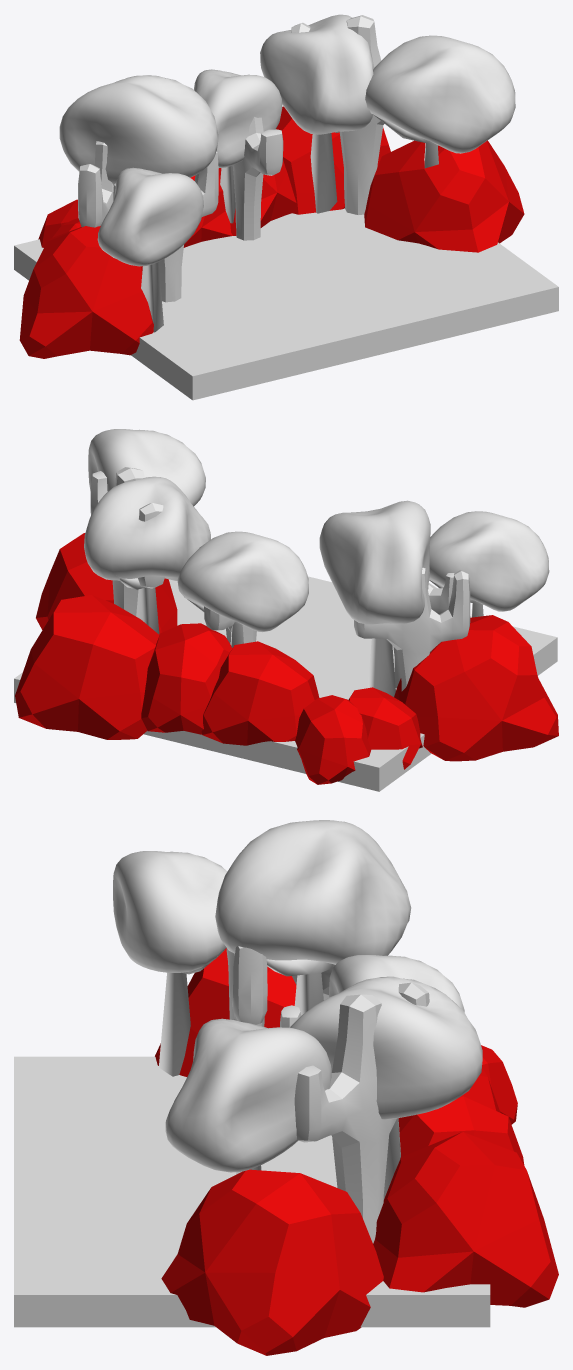
The model's file is Finishler.fbx.
3 views of the same model, one above another, from view 1: azimuth 30°, elevation 25°; view 2: azimuth 150°, elevation 25°; view 3: azimuth 270°, elevation 25° (orthographic). The views are drawn at different scales.
Visible parts, largest first — view 1: Cube.104, Cube.111; view 2: Cube.111, Cube.104; view 3: Cube.111, Cube.104.
Boxes of the visible parts, bbox=[...] form: Cube.104: bbox=[14, 14, 557, 399]; Cube.111: bbox=[19, 15, 558, 400]; Cube.111: bbox=[15, 467, 558, 784]; Cube.104: bbox=[14, 429, 557, 791]; Cube.111: bbox=[14, 946, 558, 1355]; Cube.104: bbox=[14, 820, 482, 1294].
Size of the model in its own units: 1057 by 462 by 741.
